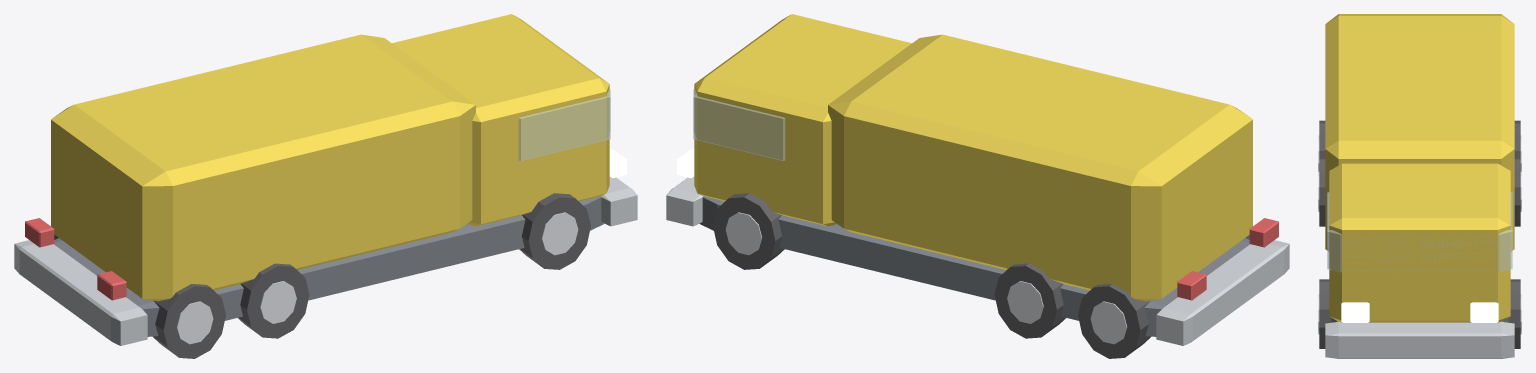
File: b15_street_marking_truck.glb
3 views of the same model, side by side, from view 1: azimuth 30°, elevation 25°; view 2: azimuth 150°, elevation 25°; view 3: azimuth 270°, elevation 25° (orthographic). The views are drawn at different scales.
Parts seen in each view (by area): view 1: b15_street_marking_truck; view 2: b15_street_marking_truck; view 3: b15_street_marking_truck.
Boxes of the visible parts, x1,y1,x2,y2 form: b15_street_marking_truck: (14,14,637,358); b15_street_marking_truck: (666,14,1289,358); b15_street_marking_truck: (1318,14,1521,358).
Size of the model in its own units: 8.68 by 2.93 by 3.29.
